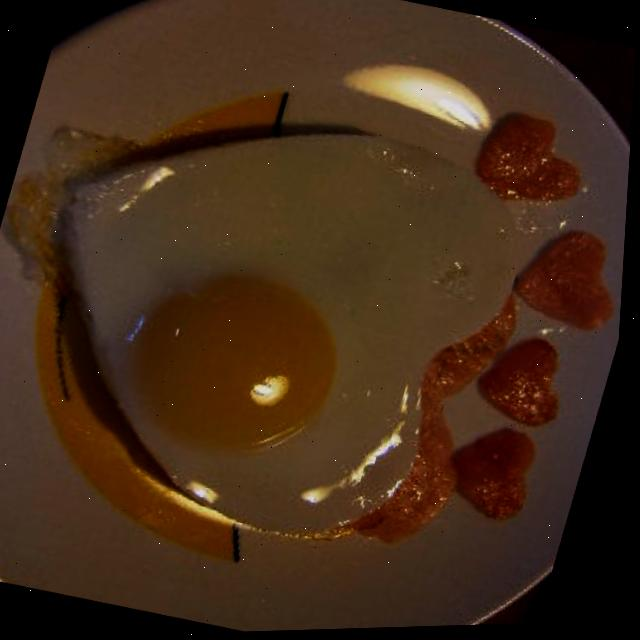鸡蛋料理: (2, 30, 558, 584)
